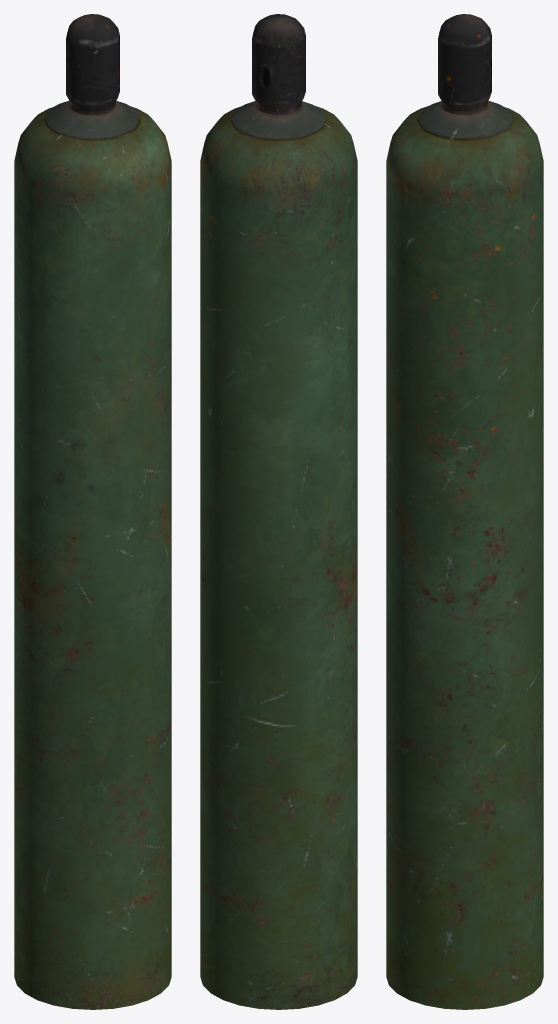
The model's file is WeldingTank_02a_snaps011.fbx.
3 views of the same model, side by side, from view 1: azimuth 30°, elevation 25°; view 2: azimuth 150°, elevation 25°; view 3: azimuth 270°, elevation 25° (orthographic).
Parts seen in each view (by area): view 1: WeldingTank_02a_snaps011_LOD0; view 2: WeldingTank_02a_snaps011_LOD0; view 3: WeldingTank_02a_snaps011_LOD0.
Boxes of the visible parts, x1,y1,x2,y2 form: WeldingTank_02a_snaps011_LOD0: (14,14,171,1009); WeldingTank_02a_snaps011_LOD0: (200,14,357,1009); WeldingTank_02a_snaps011_LOD0: (386,14,543,1009).
Size of what is drawn, in the model's own units: 19 by 127 by 19.
